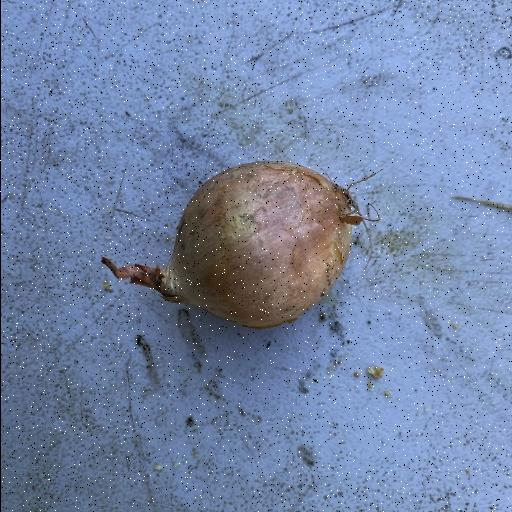Waste: (100, 158, 382, 330)
